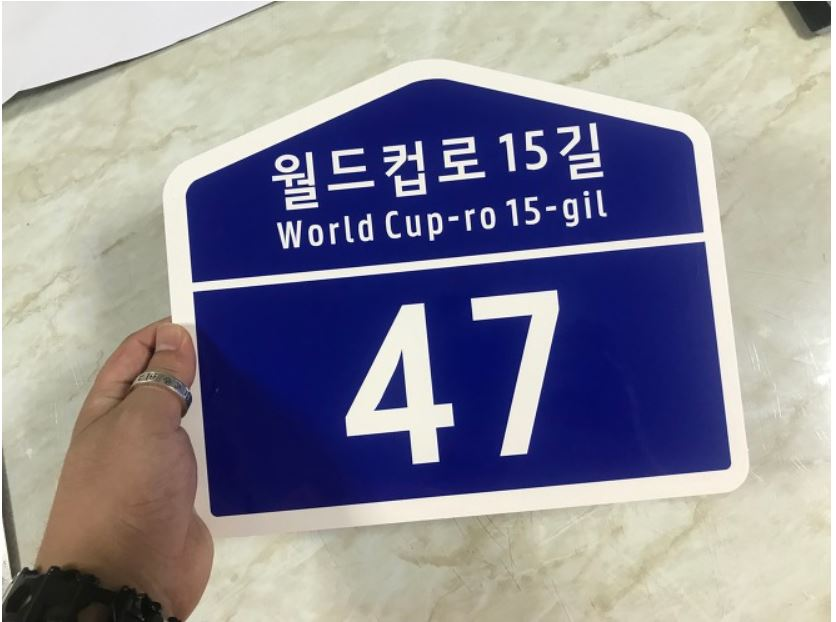building_license_plate1: (161, 58, 752, 529)
